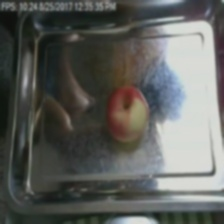apple: (13, 44, 208, 204)
